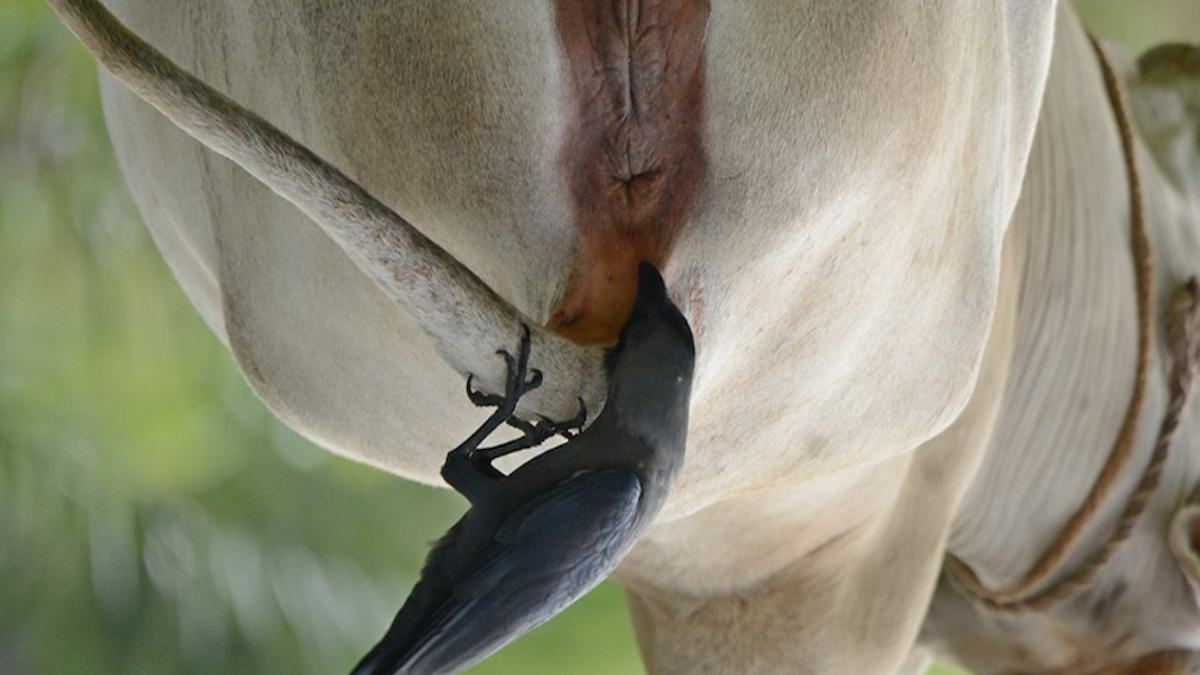crow: (379, 259, 716, 675)
